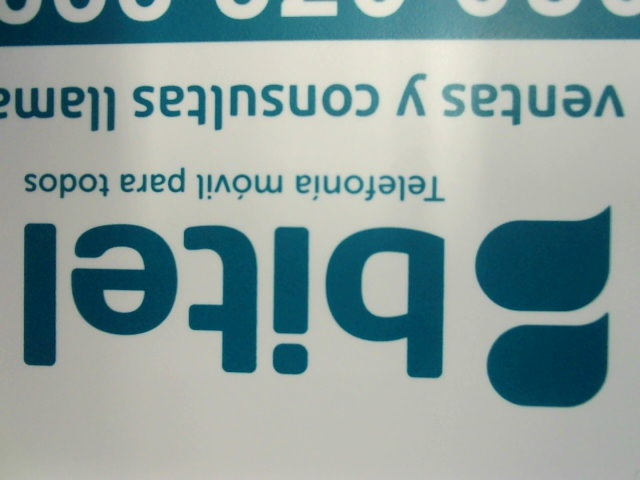BE_bitel: (16, 200, 614, 413)
